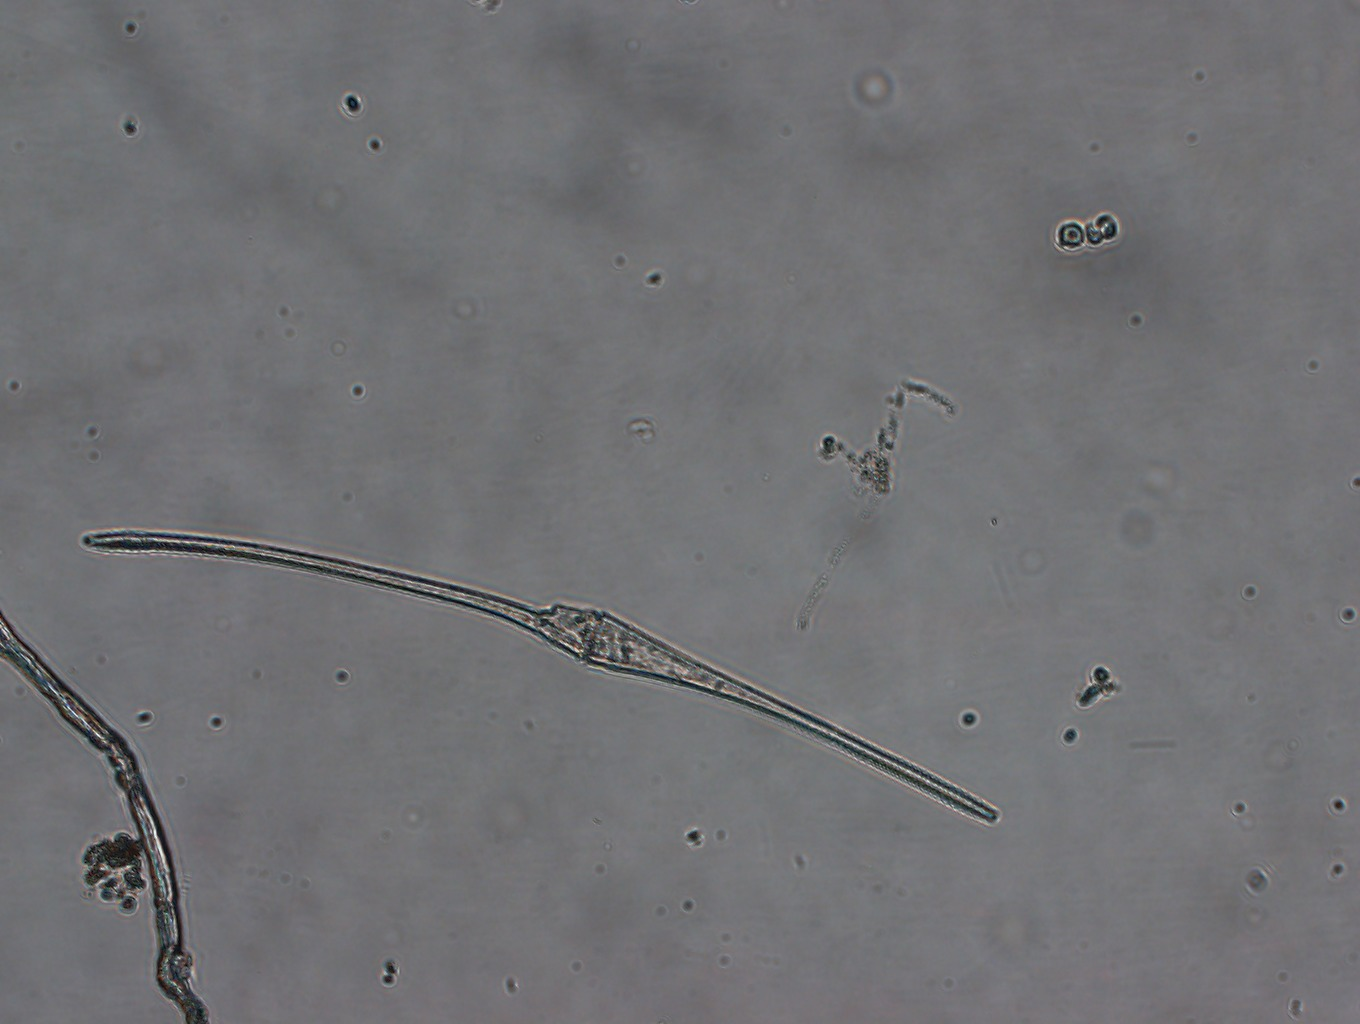ceratium fusus: (78, 528, 1001, 826)
